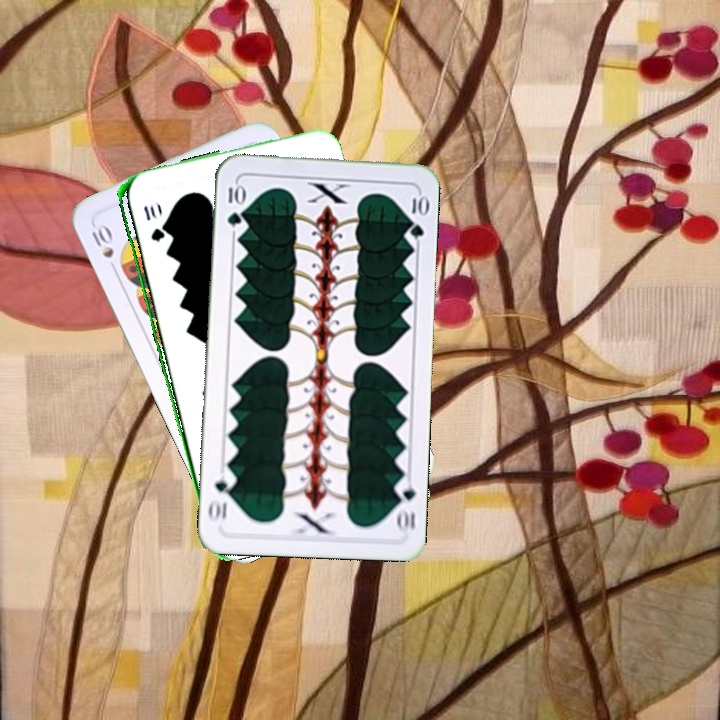G10: (391, 475, 418, 535), (223, 179, 245, 229), (139, 202, 164, 244)
S10: (85, 220, 120, 276)
